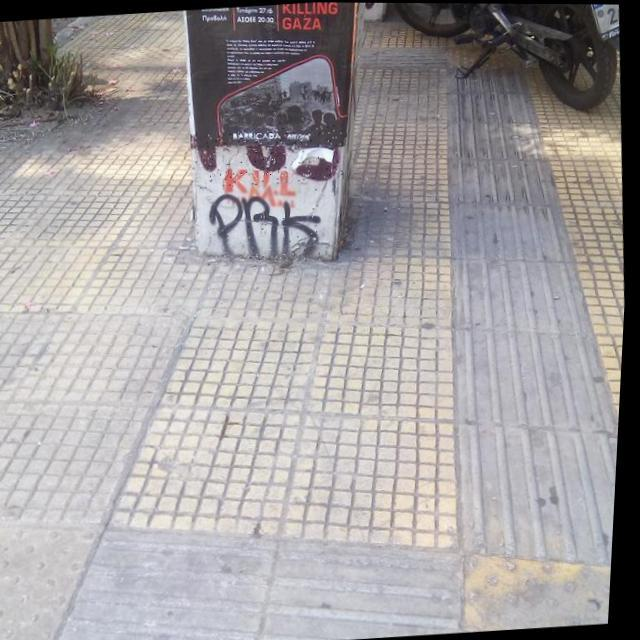-: (190, 123, 346, 189), (206, 185, 329, 267), (224, 161, 302, 211)
